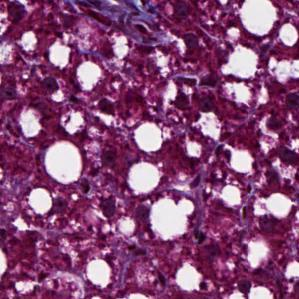steatosis: (45, 142, 84, 184), (133, 122, 167, 154)
